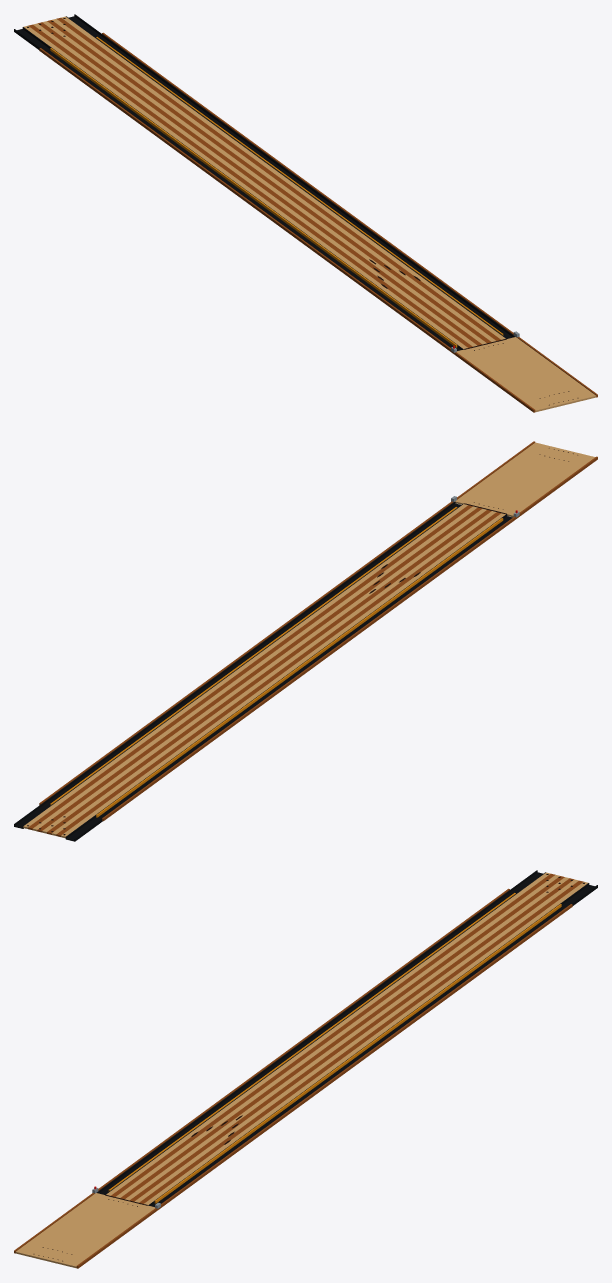
The model's file is cozy_bowling_lane.obj.
3 views of the same model, one above another, from view 1: azimuth 30°, elevation 25°; view 2: azimuth 150°, elevation 25°; view 3: azimuth 330°, elevation 25° (orthographic).
Parts seen in each view (by area): view 1: Lane_Mesh; view 2: Lane_Mesh; view 3: Lane_Mesh.
Boxes of the visible parts, x1,y1,x2,y2 form: Lane_Mesh: (14,14,597,412); Lane_Mesh: (14,441,597,841); Lane_Mesh: (14,870,597,1268).
Size of the model in its own units: 1.64 by 0.205 by 22.66.
